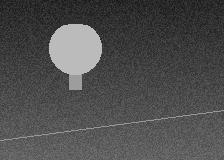no_helmet: (49, 20, 101, 79)
